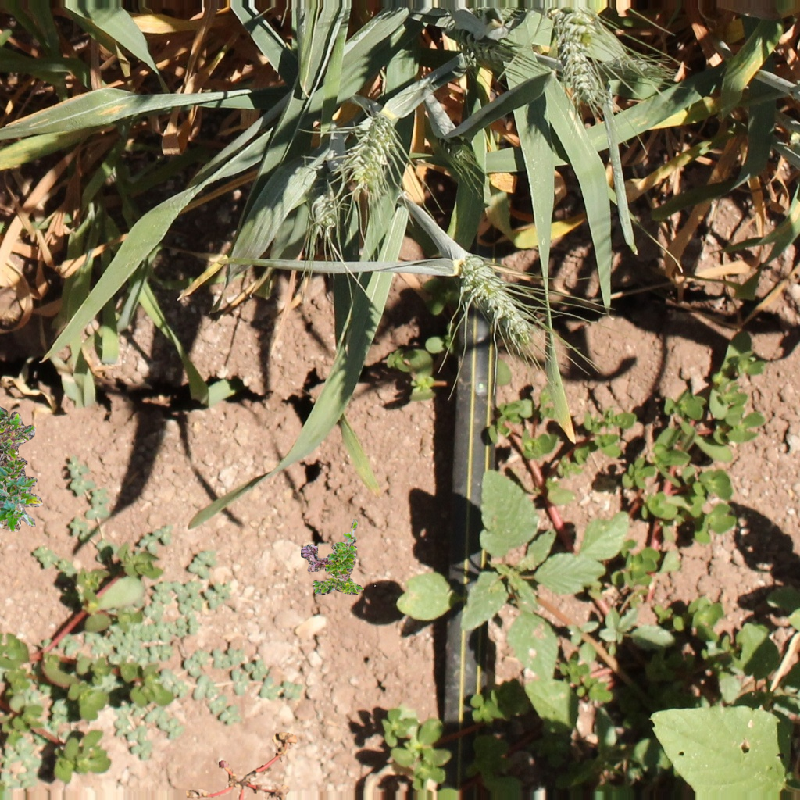spikelet: (456, 252, 537, 344), (546, 1, 604, 106), (345, 107, 401, 198), (444, 23, 519, 72), (610, 46, 671, 89), (424, 115, 470, 168), (1, 454, 38, 515), (306, 189, 345, 237), (325, 533, 358, 580)
weed: (476, 347, 779, 695), (1, 460, 305, 787), (395, 467, 630, 723), (625, 699, 800, 800), (375, 706, 458, 800), (186, 732, 298, 800), (1, 405, 43, 532), (301, 519, 364, 595), (386, 335, 448, 397)
